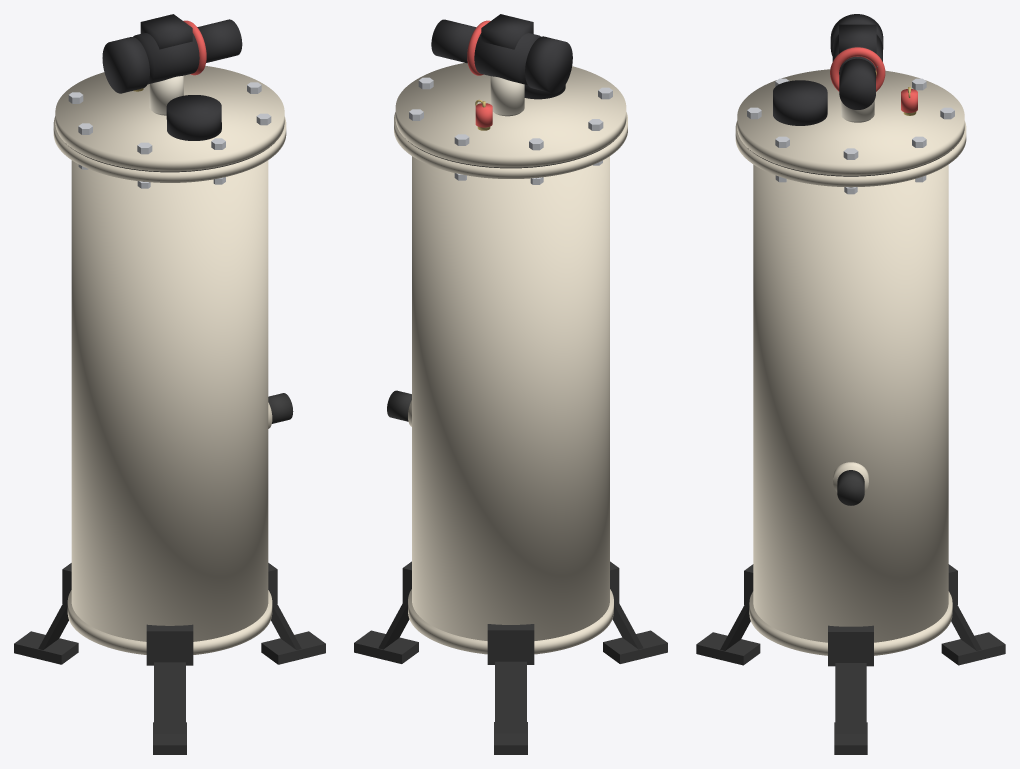
Rendered from filter.glb.
3 renders of one model, left to right at view 1: azimuth 30°, elevation 25°; view 2: azimuth 150°, elevation 25°; view 3: azimuth 270°, elevation 25°, orthographic.
Parts seen in each view (by area): view 1: Body_Main, Top_Lid, Top_Flange, Body_Bottom_Collar, Gauge_Right_Body, Leg_Bar_3, Gauge_Left_Body, Regulator_Body, Leg_Bracket_3, Regulator_Knob, Leg_Foot_1, Leg_Foot_2 (+6 smaller); view 2: Body_Main, Top_Lid, Top_Flange, Body_Bottom_Collar, Leg_Bar_2, Gauge_Left_Body, Regulator_Body, Leg_Bracket_2, Regulator_Knob, Leg_Foot_1, Leg_Foot_3, Regulator_Top_Block (+5 smaller); view 3: Body_Main, Top_Lid, Top_Flange, Body_Bottom_Collar, Gauge_Right_Body, Leg_Bar_1, Leg_Bracket_1, Regulator_Knob, Leg_Foot_2, Leg_Foot_3, Regulator_Top_Block, Regulator_Red_Ring (+5 smaller).
Boxes of the visible parts, box(x1,y1,x2,y2) form: Body_Main: box(71, 160, 268, 641); Top_Lid: box(55, 66, 284, 171); Top_Flange: box(53, 116, 286, 182); Body_Bottom_Collar: box(67, 590, 272, 654); Gauge_Right_Body: box(166, 95, 221, 140); Leg_Bar_3: box(154, 662, 185, 733); Gauge_Left_Body: box(102, 37, 149, 93); Regulator_Body: box(133, 33, 199, 84); Leg_Bracket_3: box(146, 624, 193, 665); Regulator_Knob: box(197, 19, 242, 62); Leg_Foot_1: box(261, 631, 325, 664); Leg_Foot_2: box(14, 631, 78, 664); Body_Main: box(412, 156, 609, 640); Top_Lid: box(395, 63, 626, 167); Top_Flange: box(394, 112, 627, 178); Body_Bottom_Collar: box(408, 589, 613, 654); Leg_Bar_2: box(495, 661, 526, 733); Gauge_Left_Body: box(525, 36, 572, 93); Regulator_Body: box(474, 33, 540, 84); Leg_Bracket_2: box(487, 624, 534, 664); Regulator_Knob: box(431, 19, 476, 63); Leg_Foot_1: box(354, 630, 418, 663); Leg_Foot_3: box(603, 630, 667, 663); Regulator_Top_Block: box(481, 14, 533, 49); Body_Main: box(753, 164, 948, 642); Top_Lid: box(737, 69, 964, 175); Top_Flange: box(735, 121, 966, 187); Body_Bottom_Collar: box(749, 591, 952, 655); Gauge_Right_Body: box(773, 80, 827, 125); Leg_Bar_1: box(835, 663, 866, 733); Leg_Bracket_1: box(828, 625, 873, 666); Regulator_Knob: box(839, 58, 875, 109); Leg_Foot_2: box(941, 632, 1005, 665); Leg_Foot_3: box(696, 632, 760, 665); Regulator_Top_Block: box(839, 24, 876, 53); Regulator_Red_Ring: box(830, 47, 885, 91).
Bounding box in the file's own units: 0.271 × 0.684 × 0.2949.
